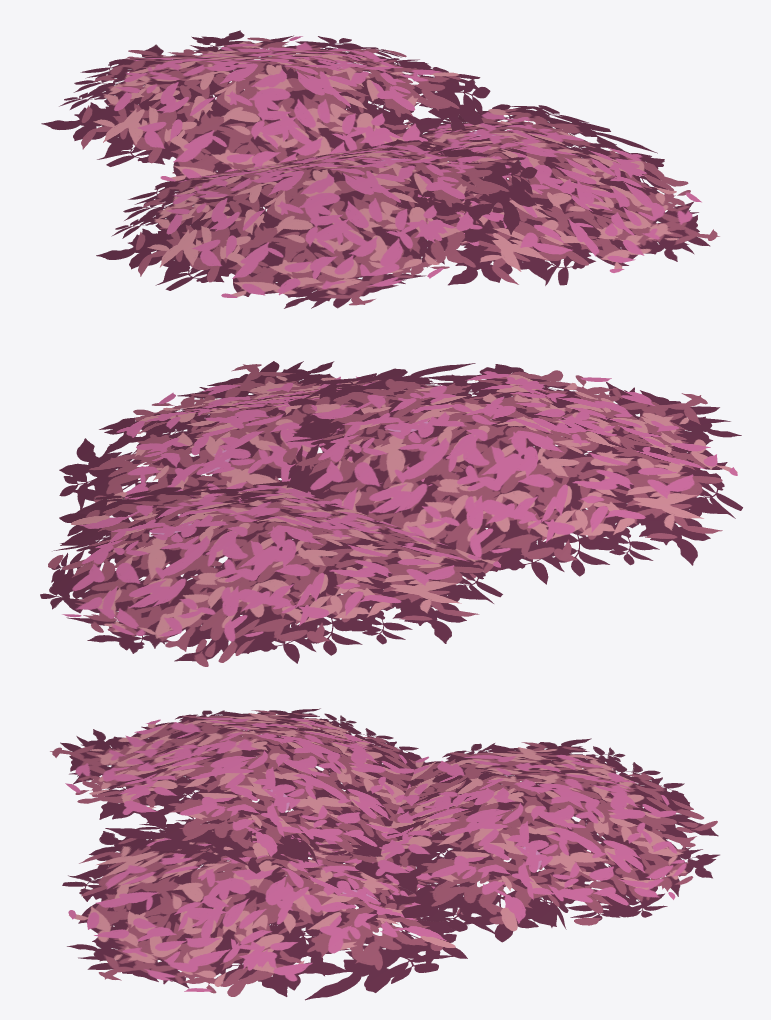
The model's file is pink_bush.fbx.
The picture shows the model from 3 angles, top to bottom: view 1: azimuth 30°, elevation 25°; view 2: azimuth 150°, elevation 25°; view 3: azimuth 270°, elevation 25°; orthographic projection. The views are drawn at different scales.
Visible parts, largest first — view 1: pPlane122; view 2: pPlane122; view 3: pPlane122.
Part boxes in pixels (x1=…): pPlane122: x1=41, y1=30, x2=719, y2=308; pPlane122: x1=40, y1=361, x2=742, y2=666; pPlane122: x1=50, y1=708, x2=719, y2=1000.
Bounding box in the file's own units: 1.53 × 0.2204 × 1.73.
